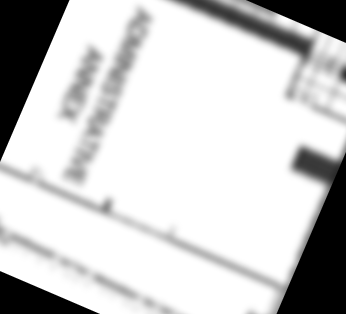door: (26, 166, 47, 188)
double door: (291, 85, 320, 110)
